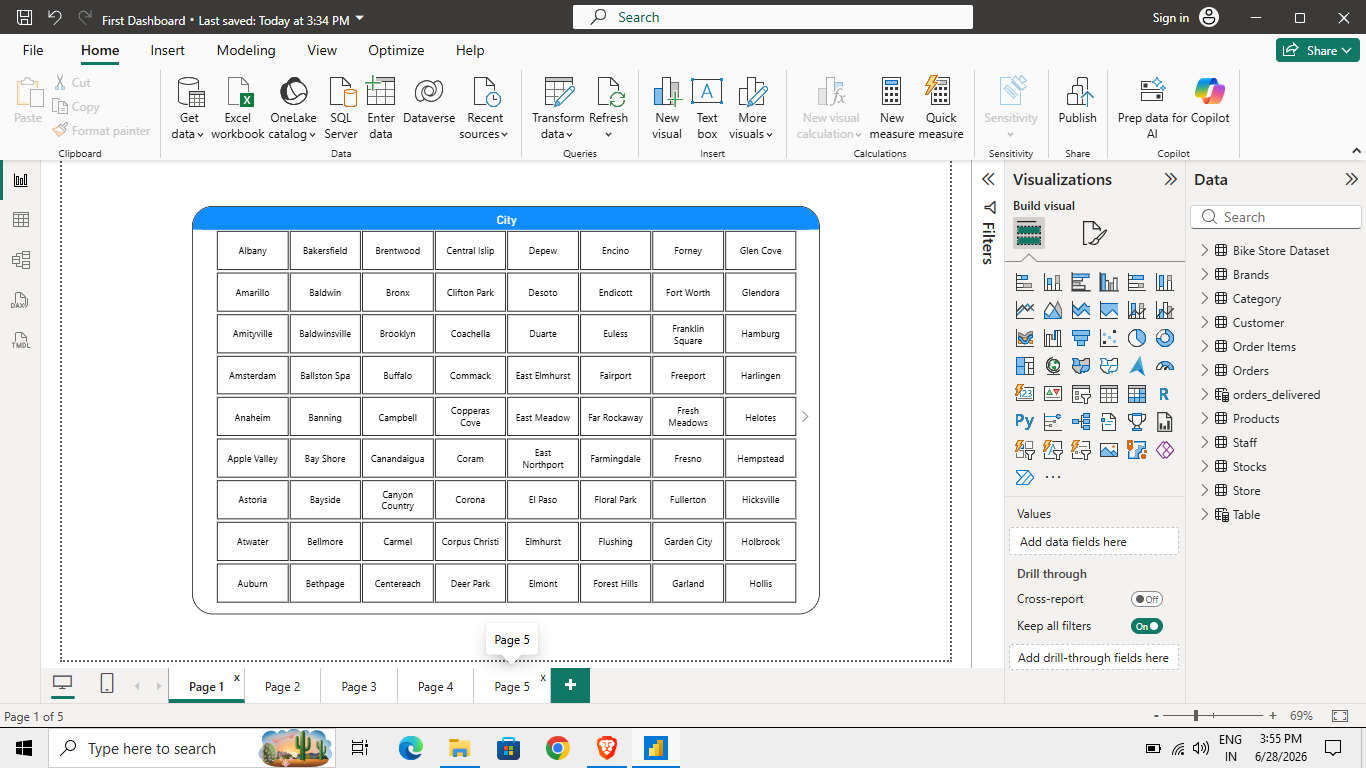

The dashboard page shown, as its layout file describes it:
{"tool":"powerbi","page":{"name":"Page 1","canvas":[1280,720],"ordinal":0},"visuals":[{"type":"slicer","title":"City","fields":{"Values":["Customer.city"]},"box":[187.2,66.2,904.3,587.5],"z":1000}]}

Visuals, with their boxes on the page's 1280x720 design canvas (x1, y1, x2, y2). These are canvas units, not pixel positions in the 1366x768 screenshot, which may show the page scaled, cropped or inside an application window:
"City" slicer: 187, 66, 1092, 654
